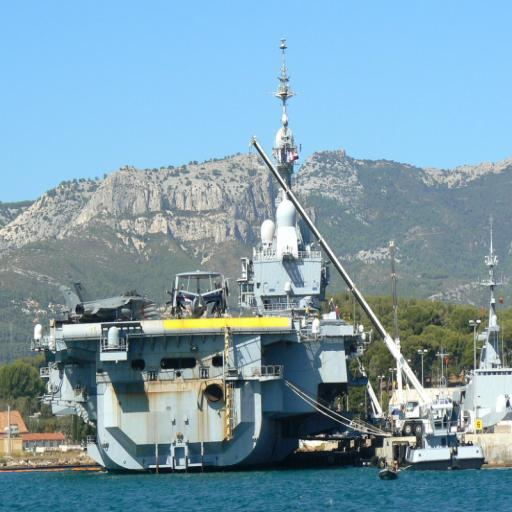Portanaves: (27, 28, 377, 482)
